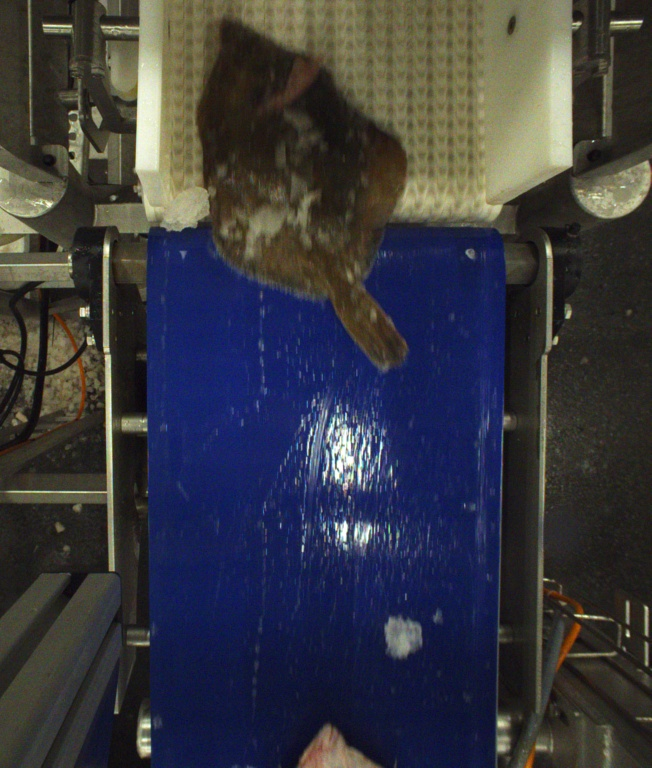PLE: (198, 16, 410, 373)
